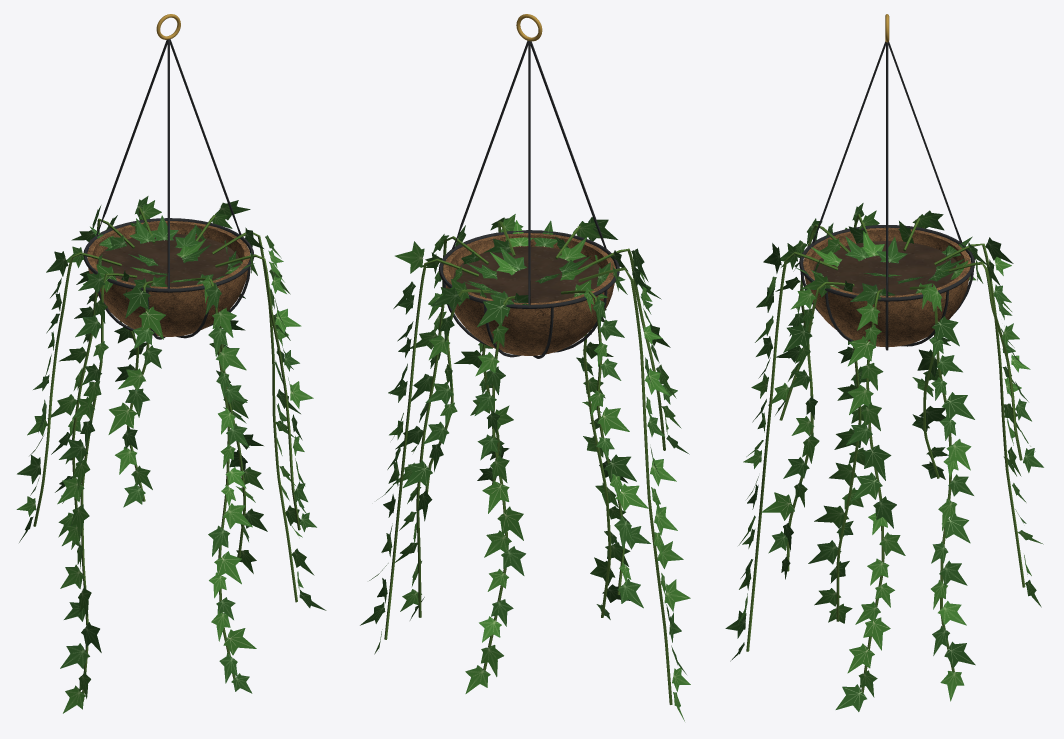
File: hanging-ivy-basket.glb
3 renders of one model, left to right at view 1: azimuth 30°, elevation 25°; view 2: azimuth 150°, elevation 25°; view 3: azimuth 270°, elevation 25°, orthographic. The views are drawn at different scales.
Visible parts, largest first — view 1: Hanging_Ivy_Basket; view 2: Hanging_Ivy_Basket; view 3: Hanging_Ivy_Basket.
Boxes of the visible parts, left/top/right/bottom form: Hanging_Ivy_Basket: left=16, top=14, right=326, bottom=713; Hanging_Ivy_Basket: left=360, top=14, right=690, bottom=721; Hanging_Ivy_Basket: left=725, top=14, right=1043, bottom=711.
Bounding box in the file's own units: 0.6543 × 1.52 × 0.6601.
Materials: 7 (4 with a texture image).
